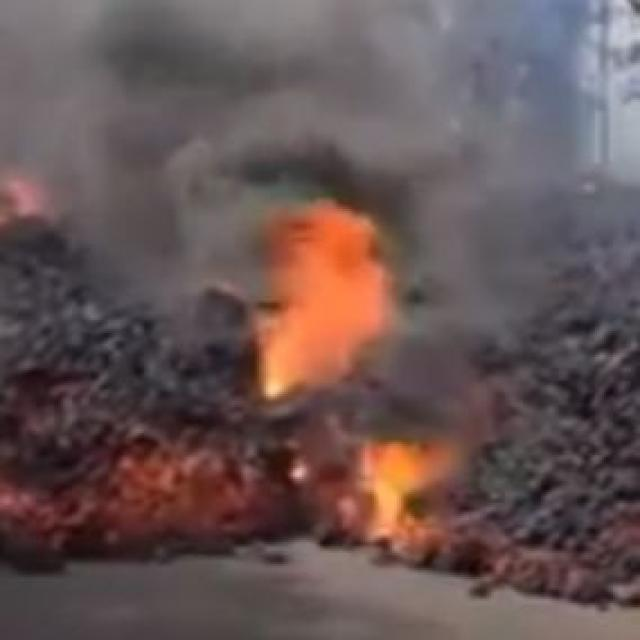Fire: (0, 428, 271, 536), (243, 212, 378, 373), (347, 438, 426, 542)
Smoke: (47, 8, 561, 170), (70, 58, 217, 289)
